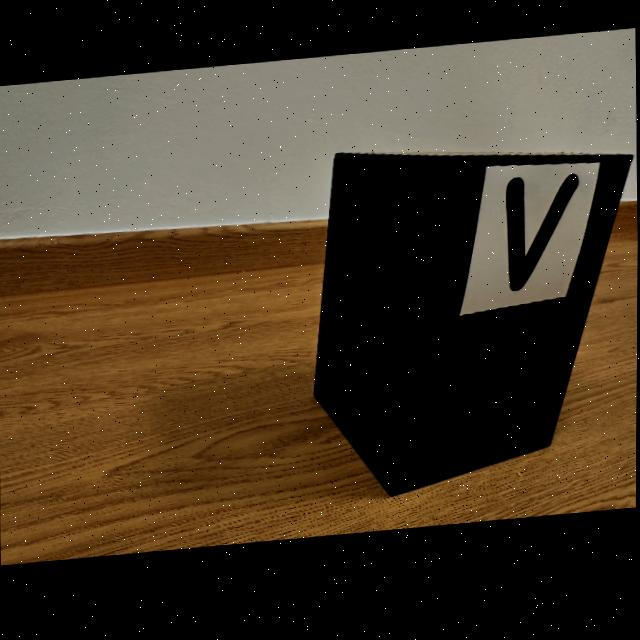V: (506, 183, 578, 299)
